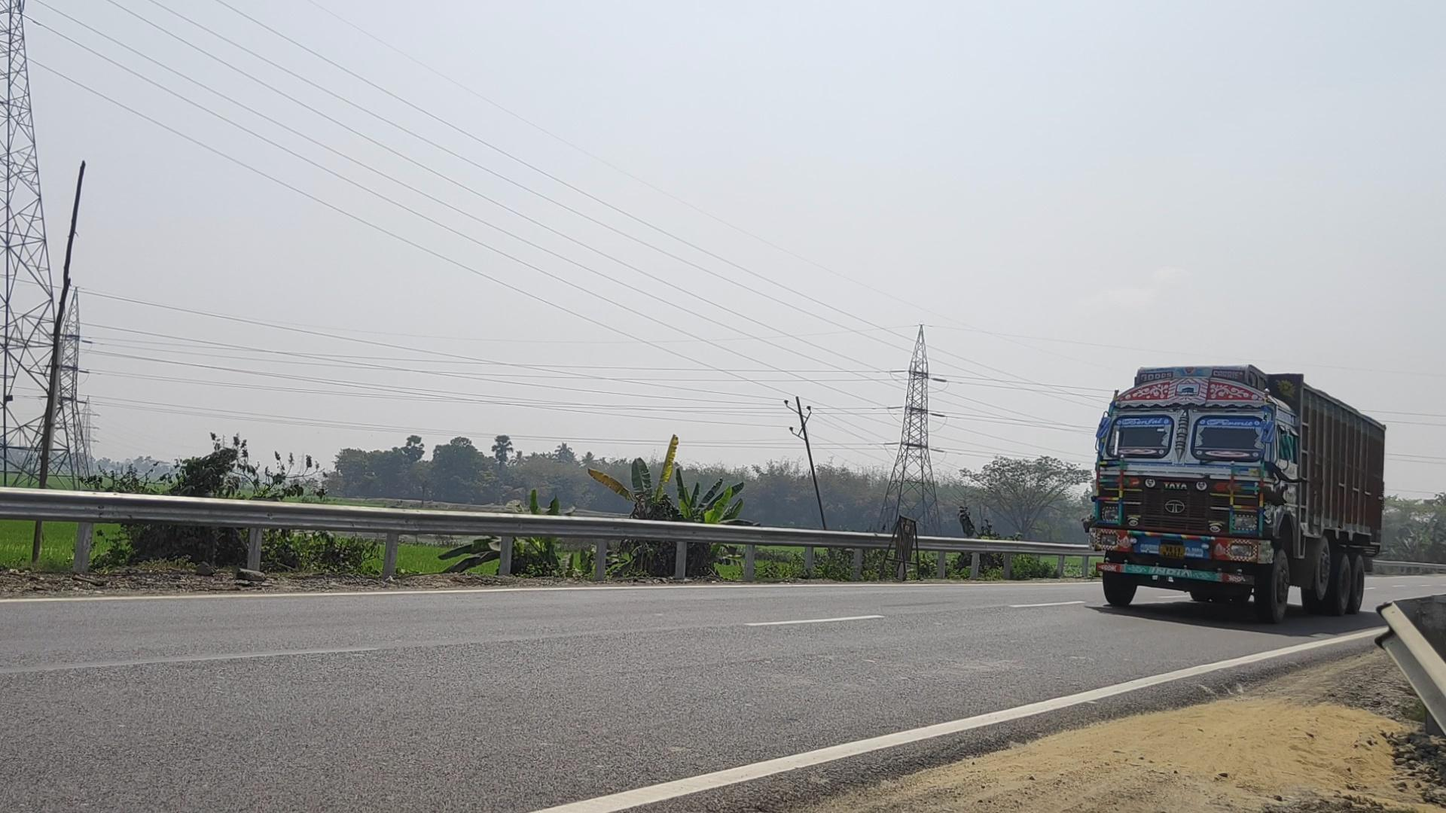truck: (1088, 364, 1386, 625)
